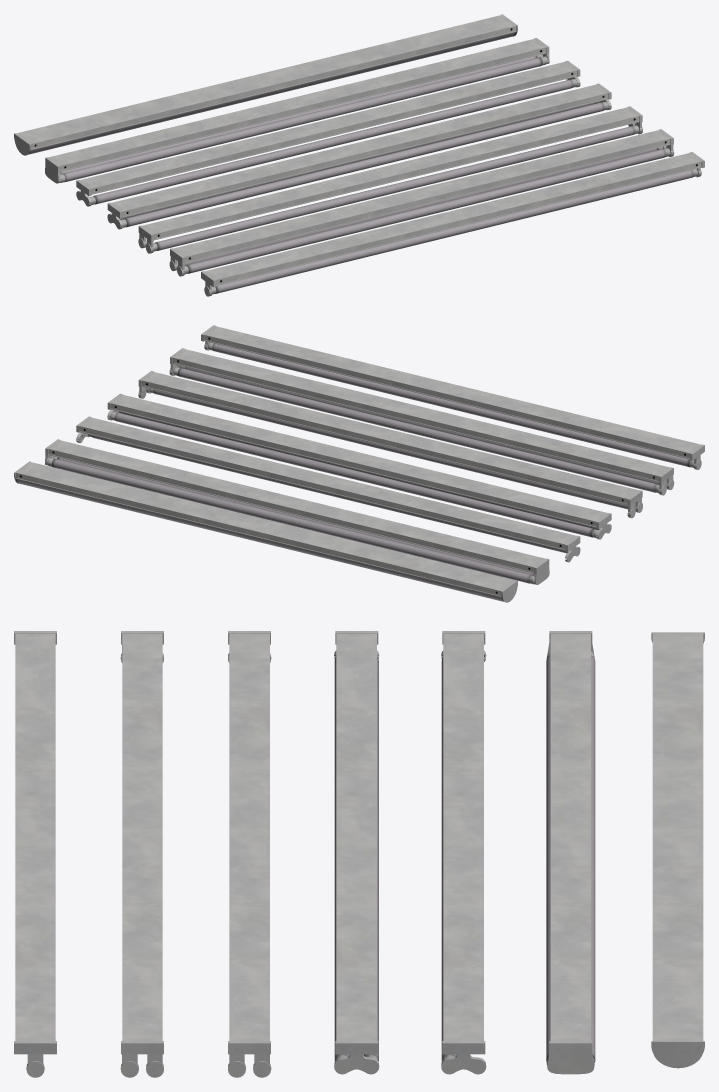
File: ph_mounted_fluorescent_lights.glb
3 renders of one model, top to bottom at view 1: azimuth 30°, elevation 25°; view 2: azimuth 150°, elevation 25°; view 3: azimuth 270°, elevation 25°, orthographic. The views are drawn at different scales.
Visible parts, largest first — view 1: mounted_fluorescent_lights_a; view 2: mounted_fluorescent_lights_a; view 3: mounted_fluorescent_lights_a.
Boxes of the visible parts, <box> form: mounted_fluorescent_lights_a: <box>14,14,704,296</box>; mounted_fluorescent_lights_a: <box>14,325,704,602</box>; mounted_fluorescent_lights_a: <box>14,631,704,1077</box>.
Bounding box in the file's own units: 0.9122 × 0.0354 × 0.6454.
Materials: 2 (2 with a texture image).
